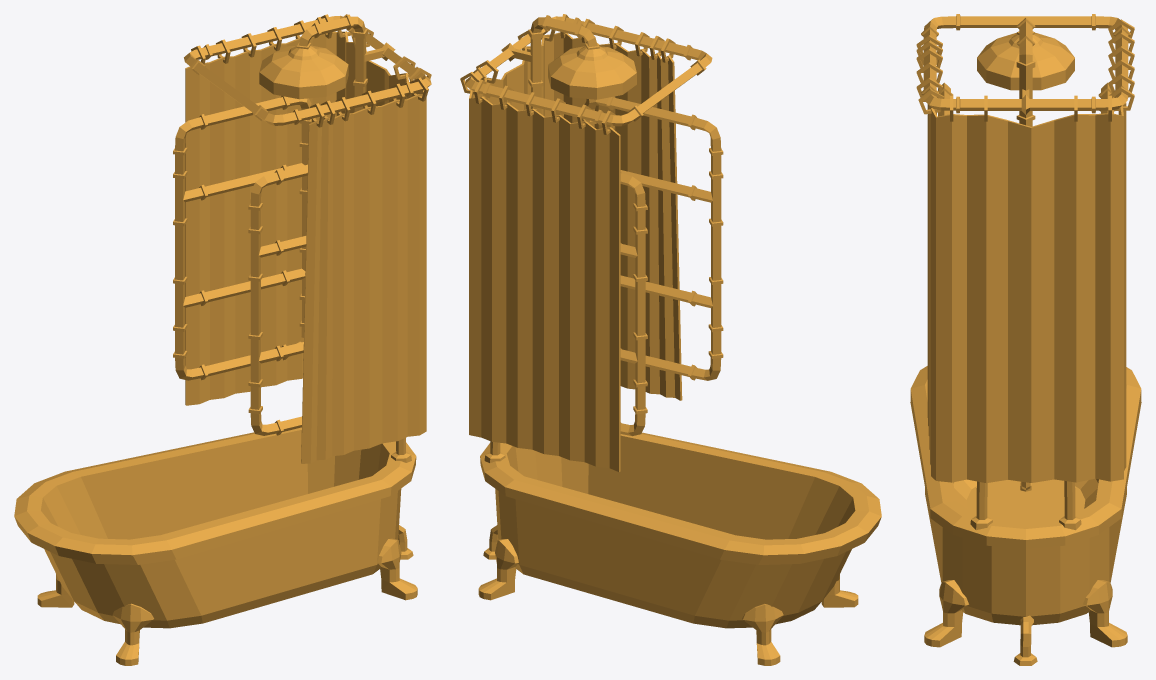
The model's file is SM_Bathtub_Victorian_Curtain.fbx.
The picture shows the model from 3 angles, left to right: view 1: azimuth 30°, elevation 25°; view 2: azimuth 150°, elevation 25°; view 3: azimuth 270°, elevation 25°; orthographic projection. The views are drawn at different scales.
Visible parts, largest first — view 1: bathtub-victorian-curtain; view 2: bathtub-victorian-curtain; view 3: bathtub-victorian-curtain.
Boxes of the visible parts, x1=… form: bathtub-victorian-curtain: x1=14, y1=14, x2=431, y2=665; bathtub-victorian-curtain: x1=460, y1=14, x2=881, y2=665; bathtub-victorian-curtain: x1=910, y1=14, x2=1141, y2=665.
Size of the model in its own units: 1.83 by 2.53 by 0.8852.
